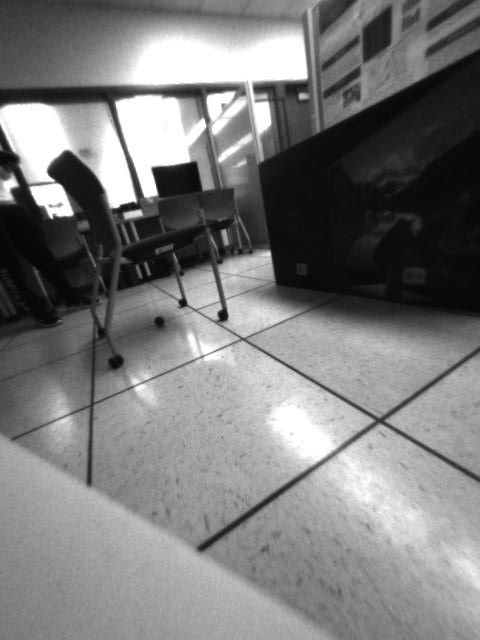dogtoy: (148, 309, 172, 332)
